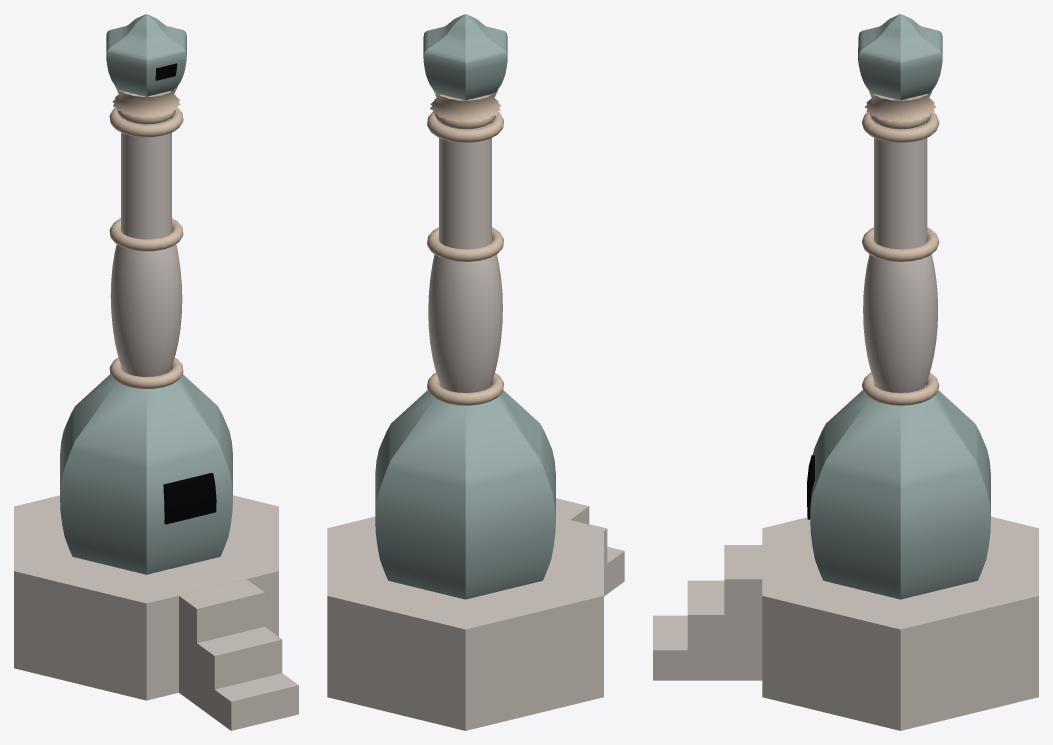
The model's file is watch tower 0.fbx.
3 renders of one model, left to right at view 1: azimuth 30°, elevation 25°; view 2: azimuth 150°, elevation 25°; view 3: azimuth 270°, elevation 25°, orthographic. The views are drawn at different scales.
Parts seen in each view (by area): view 1: polySurface9; view 2: polySurface9; view 3: polySurface9.
Boxes of the visible parts, left/top/right/bottom form: polySurface9: left=14, top=14, right=298, bottom=730; polySurface9: left=327, top=14, right=624, bottom=730; polySurface9: left=653, top=14, right=1038, bottom=730.
Size of the model in its own units: 0.447 by 1 by 0.5399.
